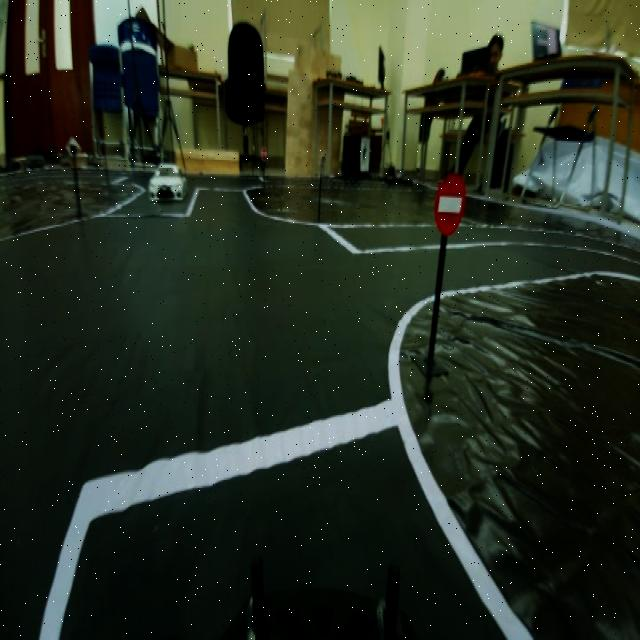car: (144, 162, 190, 207)
no_entry: (428, 165, 468, 241)
